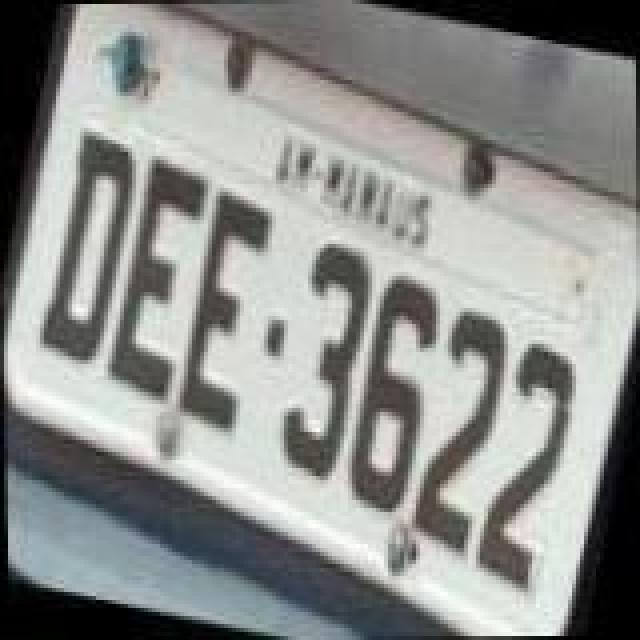2: (462, 336, 586, 600), (400, 302, 520, 558)
3: (262, 236, 382, 484)
6: (336, 270, 456, 518)
D: (28, 128, 148, 368)
E: (102, 152, 222, 404), (166, 192, 286, 436)
